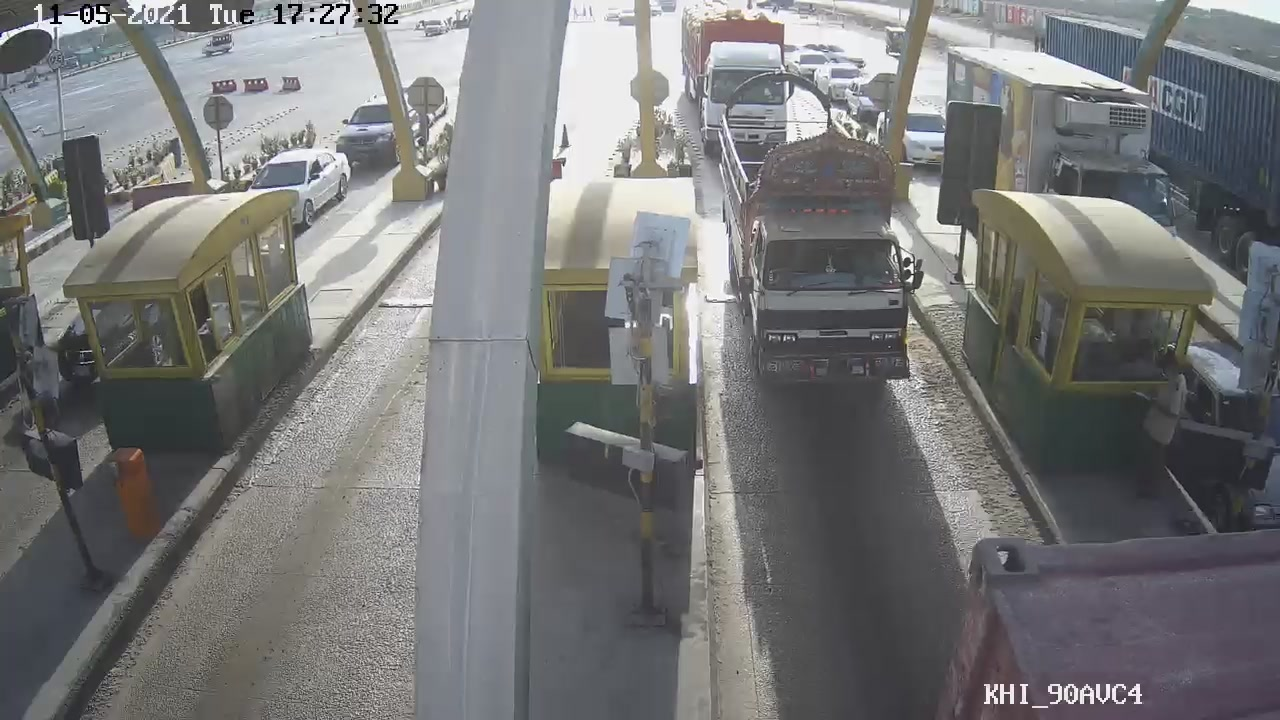F5: (708, 83, 923, 391)
